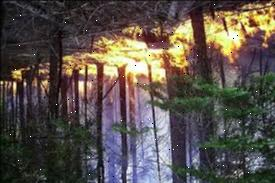fire: (72, 20, 192, 84), (204, 3, 275, 62)
